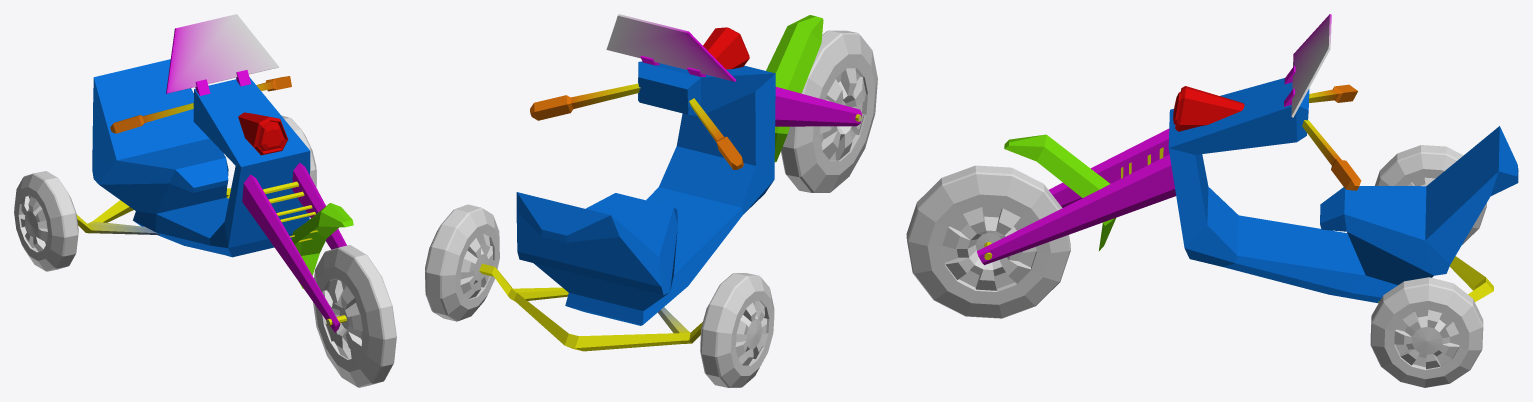
Rendered from Bike_uv_color.fbx.
The picture shows the model from 3 angles, left to right: view 1: azimuth 30°, elevation 25°; view 2: azimuth 150°, elevation 25°; view 3: azimuth 270°, elevation 25°; orthographic projection. The views are drawn at different scales.
Visible parts, largest first — view 1: bike_joined; view 2: bike_joined; view 3: bike_joined.
Part boxes in pixels (left/top/right/bottom): bike_joined: left=14, top=14, right=396, bottom=387; bike_joined: left=425, top=14, right=877, bottom=387; bike_joined: left=906, top=14, right=1518, bottom=387.
Size of the model in its own units: 257 by 229 by 444.
